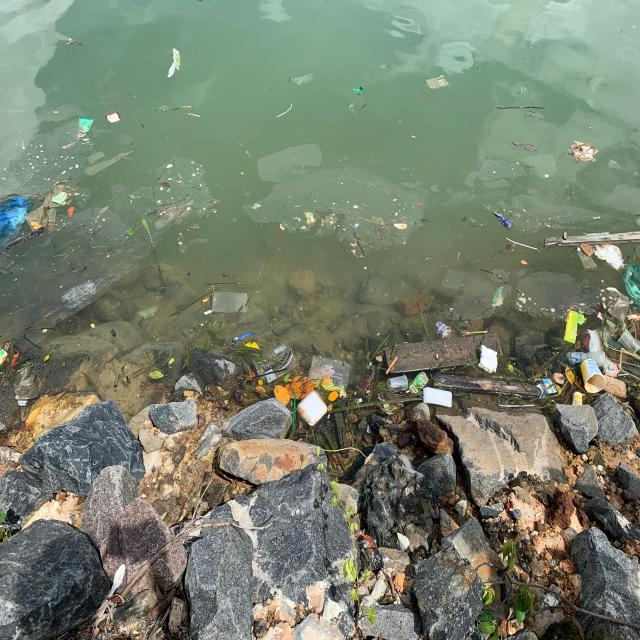Botol Plastik: (565, 351, 608, 370)
Bungkus Makanan: (252, 342, 299, 384), (308, 355, 352, 393), (298, 391, 329, 428), (581, 360, 608, 395), (565, 311, 587, 345), (493, 211, 515, 233), (79, 118, 96, 134), (106, 112, 123, 125)
Bungkus Minuman: (618, 330, 640, 355), (387, 374, 410, 392), (435, 322, 454, 340), (573, 392, 585, 408)
Kantong Plastik: (1, 198, 34, 250), (212, 291, 250, 315), (622, 264, 640, 306), (291, 73, 316, 88), (426, 77, 450, 92)
